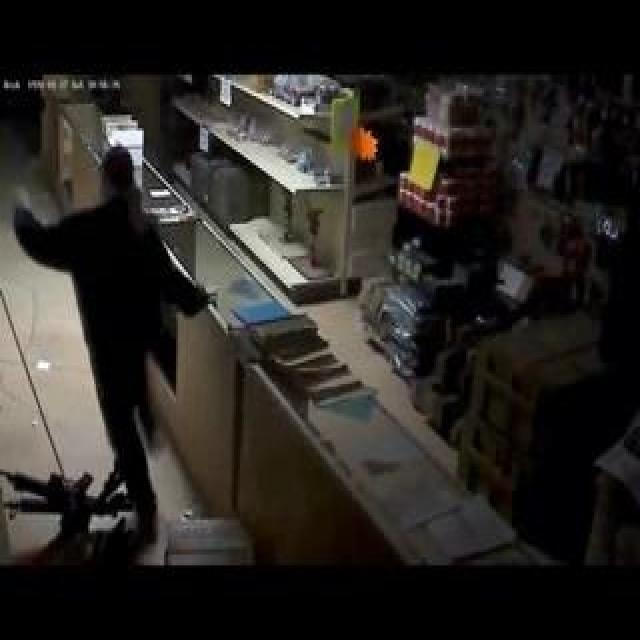thief: (79, 135, 156, 306)
